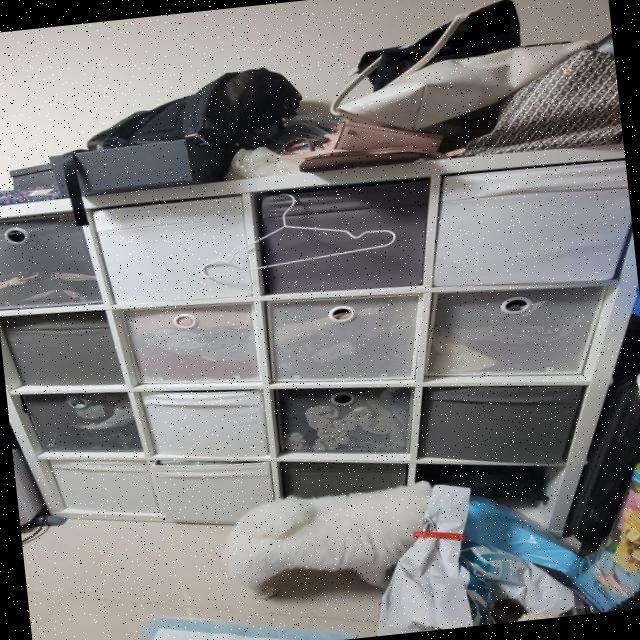Shelf: (0, 141, 640, 580)
